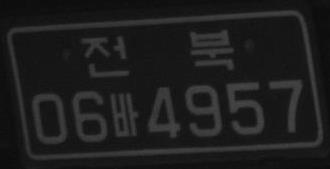0: (31, 91, 68, 145)
4: (147, 86, 181, 138)
5: (225, 82, 265, 135)
6: (73, 90, 107, 142)
7: (268, 78, 303, 133)
9: (185, 83, 222, 137)
바: (110, 92, 138, 136)
전북_D: (80, 29, 235, 77)
